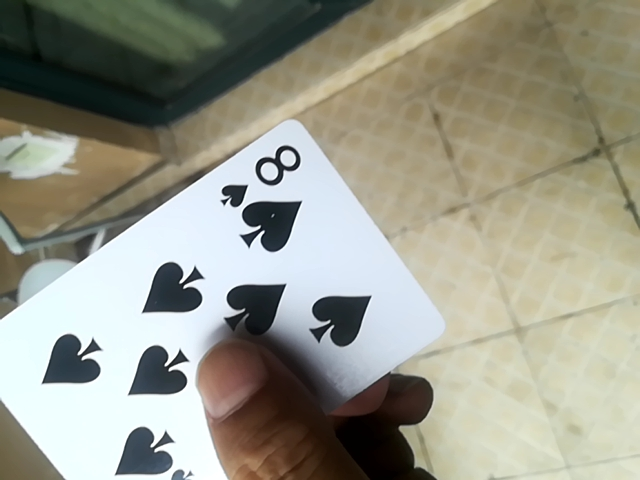ht 8: (4, 123, 449, 475)
